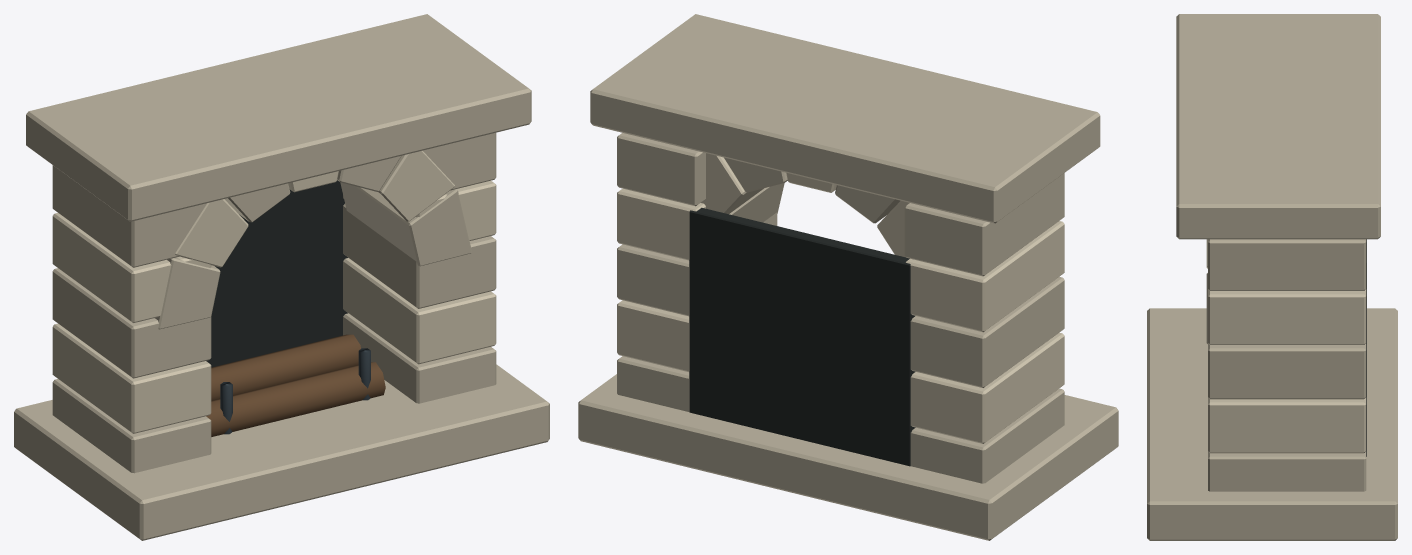
File: S021_scenic_fireplace_rebuilt.glb
3 views of the same model, side by side, from view 1: azimuth 30°, elevation 25°; view 2: azimuth 150°, elevation 25°; view 3: azimuth 270°, elevation 25° (orthographic). The views are drawn at different scales.
Parts seen in each view (by area): view 1: Limestone_painted_foam, Cut_stone_alternate_wash, Deep_recess_charcoal, Dark_stained_structural_timber, Dark_painted_steel; view 2: Limestone_painted_foam, Deep_recess_charcoal, Cut_stone_alternate_wash; view 3: Limestone_painted_foam, Cut_stone_alternate_wash.
Boxes of the visible parts, box(x1,y1,x2,y2) form: Limestone_painted_foam: box(14, 14, 549, 540); Cut_stone_alternate_wash: box(52, 150, 496, 433); Deep_recess_charcoal: box(206, 180, 347, 367); Dark_stained_structural_timber: box(206, 334, 385, 436); Dark_painted_steel: box(220, 348, 370, 434); Limestone_painted_foam: box(578, 14, 1118, 540); Deep_recess_charcoal: box(689, 207, 915, 466); Cut_stone_alternate_wash: box(617, 153, 1064, 443); Limestone_painted_foam: box(1147, 14, 1397, 540); Cut_stone_alternate_wash: box(1206, 239, 1366, 453).
Size of the model in its own units: 1.9 by 1.52 by 1.03.
